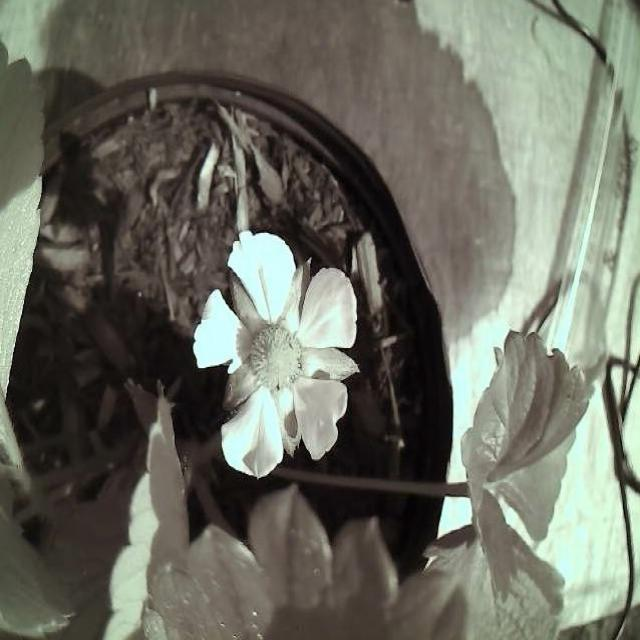flower: (188, 218, 364, 487)
